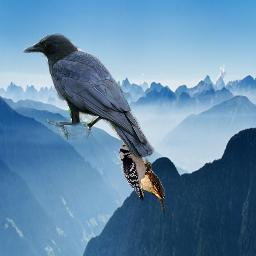Crow: (22, 33, 155, 162)
Swallow: (138, 161, 165, 214)
Woodpecker: (119, 144, 152, 201)
